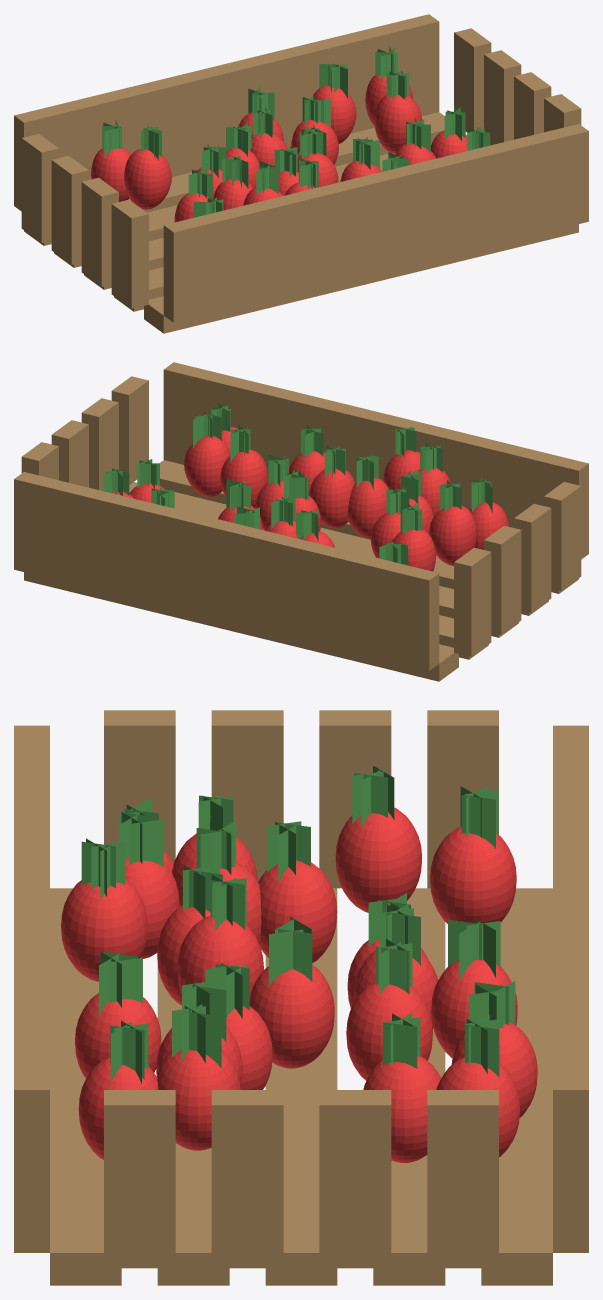
File: Strawberries.fbx
3 renders of one model, top to bottom at view 1: azimuth 30°, elevation 25°; view 2: azimuth 150°, elevation 25°; view 3: azimuth 270°, elevation 25°, orthographic. The views are drawn at different scales.
Visible parts, largest first — view 1: Cube.013, Cube.017, Cube, Cube.005, Cube.006, Cube.008, Cube.007, Cube.012, Cube.011, Sphere.002, Cube.010, Sphere.021 (+17 smaller); view 2: Cube.017, Cube.013, Cube.004, Cube.008, Cube.005, Cube.007, Cube.006, Cube.009, Cube.010, Cube.001, Sphere.001, Sphere.020 (+16 smaller); view 3: Cube.013, Cube.017, Cube.004, Cube, Cube.010, Cube.011, Cube.009, Cube.012, Cube.002, Cube.006, Cube.005, Cube.008 (+39 smaller).
Boxes of the visible parts, <box> form: Cube.013: <box>163,124,588,322</box>; Cube.017: <box>14,14,439,211</box>; Cube: <box>144,224,578,333</box>; Cube.005: <box>111,199,148,308</box>; Cube.006: <box>81,177,118,286</box>; Cube.008: <box>21,134,58,242</box>; Cube.007: <box>51,155,88,264</box>; Cube.012: <box>454,28,491,132</box>; Cube.011: <box>484,50,521,145</box>; Sphere.002: <box>124,148,171,209</box>; Cube.010: <box>514,72,551,139</box>; Sphere.021: <box>374,94,422,153</box>; Cube.017: <box>14,472,439,670</box>; Cube.013: <box>163,362,588,559</box>; Cube.004: <box>24,572,458,681</box>; Cube.008: <box>454,547,491,656</box>; Cube.005: <box>544,482,581,590</box>; Cube.007: <box>484,525,521,634</box>; Cube.006: <box>514,503,551,612</box>; Cube.009: <box>111,376,148,484</box>; Cube.010: <box>81,398,118,491</box>; Cube.001: <box>129,482,548,615</box>; Sphere.001: <box>429,505,476,565</box>; Sphere.020: <box>184,435,230,497</box>; Cube.013: <box>14,725,49,1252</box>; Cube.017: <box>553,725,588,1252</box>; Cube.004: <box>481,888,552,1285</box>; Cube: <box>50,888,121,1285</box>; Cube.010: <box>211,1090,283,1268</box>; Cube.011: <box>319,1090,391,1268</box>; Cube.009: <box>104,1090,175,1268</box>; Cube.012: <box>427,1090,498,1268</box>; Cube.002: <box>265,888,337,1285</box>; Cube.006: <box>211,710,283,881</box>; Cube.005: <box>104,710,175,863</box>; Cube.008: <box>427,710,498,888</box>.
Size of the model in its own units: 260 by 66.84 by 160.
